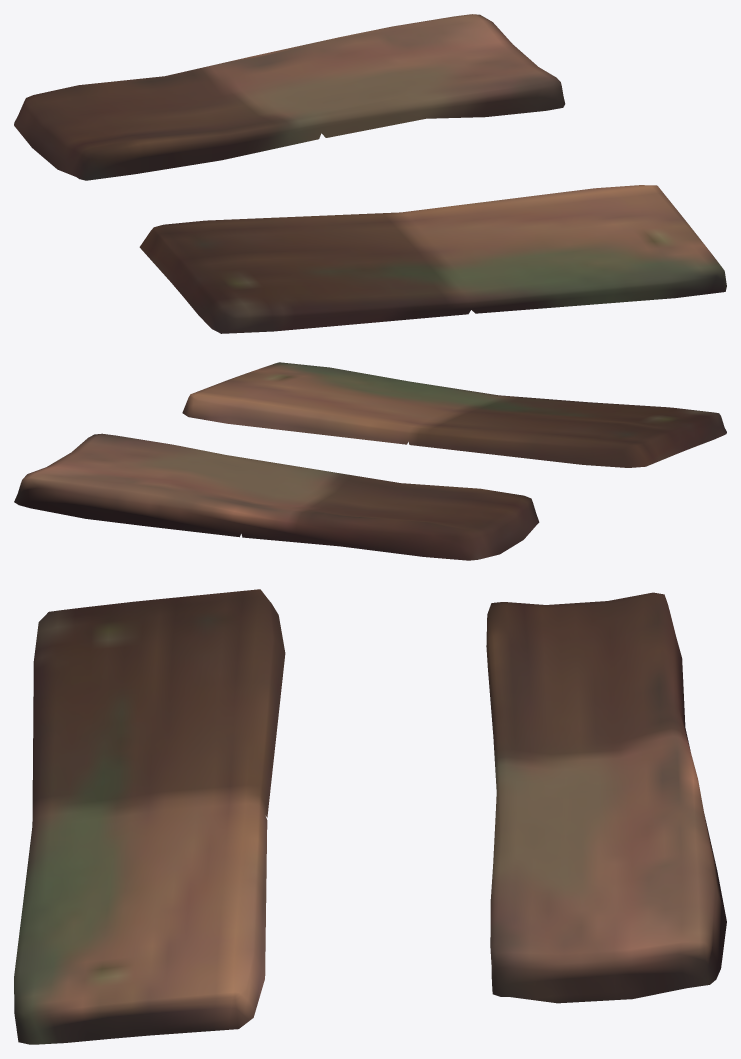
File: Beach_Details_8.glb
3 views of the same model, one above another, from view 1: azimuth 30°, elevation 25°; view 2: azimuth 150°, elevation 25°; view 3: azimuth 270°, elevation 25° (orthographic). The views are drawn at different scales.
Parts seen in each view (by area): view 1: Object_2.030; view 2: Object_2.030; view 3: Object_2.030.
Part boxes in pixels (x1,y1,x2,y2): Object_2.030: (14,14,726,333); Object_2.030: (14,362,726,560); Object_2.030: (14,589,726,1044).
Size of the model in its own units: 9.88 by 2.23 by 8.88.
Materials: 1 (1 with a texture image).
